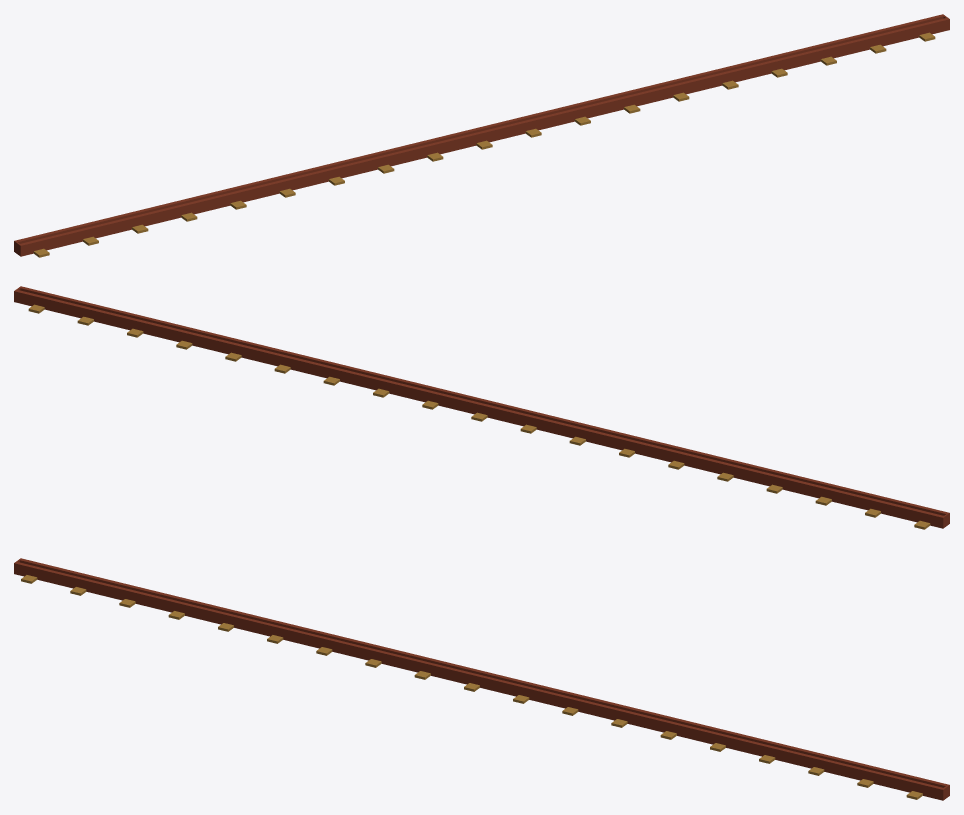
The model's file is rail_01.fbx.
The picture shows the model from 3 angles, top to bottom: view 1: azimuth 30°, elevation 25°; view 2: azimuth 150°, elevation 25°; view 3: azimuth 330°, elevation 25°; orthographic projection.
Visible parts, largest first — view 1: Cube; view 2: Cube; view 3: Cube.
Boxes of the visible parts, x1,y1,x2,y2 form: Cube: (14, 14, 949, 256); Cube: (14, 286, 949, 528); Cube: (14, 558, 949, 800).
Size of the model in its own units: 23959 by 268 by 816.
